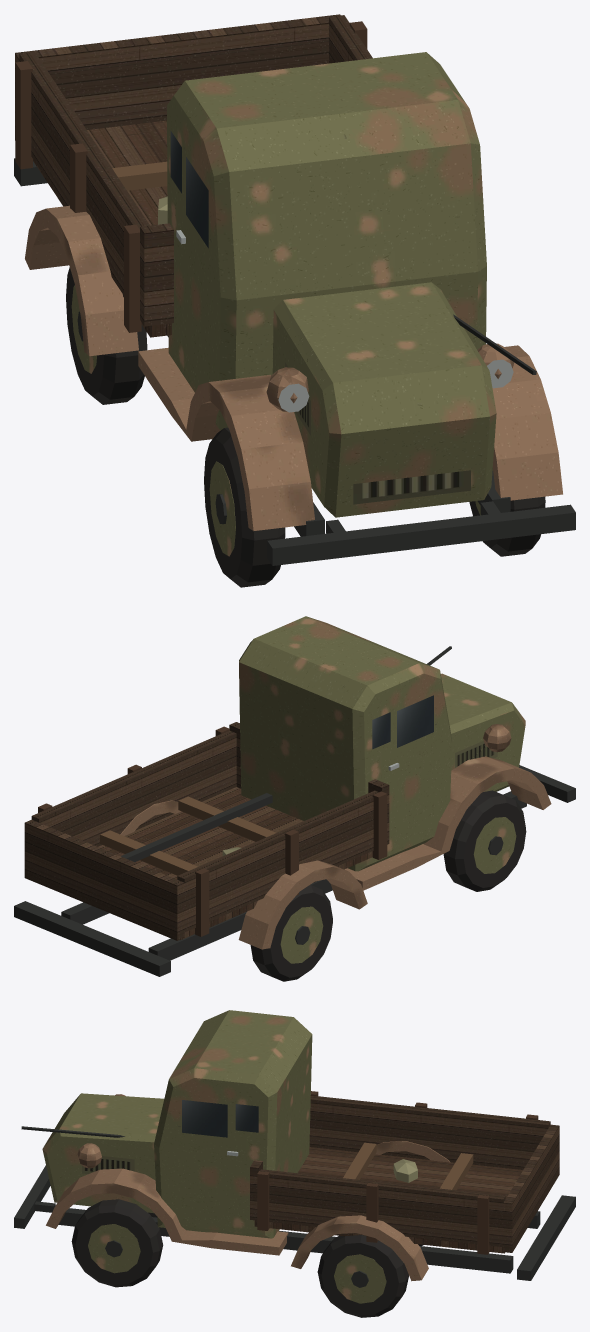
The model's file is stalledConvoy.glb.
3 views of the same model, one above another, from view 1: azimuth 30°, elevation 25°; view 2: azimuth 150°, elevation 25°; view 3: azimuth 270°, elevation 25° (orthographic). The views are drawn at different scales.
Visible parts, largest first — view 1: cabine, capot, aile_avant (×2), hayon, ridelle (×2), pneu (×3), aile_arriere, pare_chocs, rancher (×3), plateau_fond, ridelle_avant, calandre (+4 smaller); view 2: cabine, ridelle (×2), hayon, pneu (×2), aile_avant, plateau_fond, aile_arriere (×2), capot, jante (×2), pare_chocs_ar, traverse (×2), rancher (×3) (+8 smaller); view 3: cabine, ridelle (×2), pneu (×2), capot, plateau_fond, aile_avant, aile_arriere (×2), jante (×2), hayon, longeron, rancher (×3), pare_chocs_ar (+7 smaller).
Boxes of the visible parts, x1,y1,x2,y2 form: cabine: [167, 52, 486, 430]; capot: [272, 282, 496, 517]; aile_avant (×2): [138, 345, 562, 530]; hayon: [15, 14, 340, 140]; ridelle (×2): [19, 15, 372, 323]; pneu (×3): [66, 267, 545, 587]; aile_arriere: [25, 205, 138, 356]; pare_chocs: [267, 504, 575, 565]; rancher (×3): [15, 61, 141, 332]; plateau_fond: [33, 120, 171, 337]; ridelle_avant: [140, 223, 173, 326]; calandre: [353, 470, 470, 504]; cabine: [239, 616, 451, 871]; ridelle (×2): [31, 731, 386, 931]; hayon: [24, 819, 184, 940]; pneu (×2): [250, 790, 526, 981]; aile_avant: [344, 756, 551, 890]; plateau_fond: [98, 787, 372, 939]; aile_arriere (×2): [120, 800, 367, 949]; capot: [440, 673, 525, 791]; jante (×2): [280, 817, 516, 963]; pare_chocs_ar: [14, 901, 170, 976]; traverse (×2): [100, 796, 275, 875]; rancher (×3): [195, 791, 387, 936]; cabine: [154, 1010, 312, 1238]; ridelle (×2): [253, 1096, 550, 1246]; pneu (×2): [71, 1199, 408, 1317]; capot: [42, 1093, 164, 1213]; plateau_fond: [254, 1147, 522, 1253]; aile_avant: [46, 1168, 288, 1255]; aile_arriere (×2): [291, 1141, 450, 1281]; jante (×2): [88, 1224, 386, 1303]; hayon: [503, 1124, 559, 1252]; longeron: [58, 1208, 513, 1273]; rancher (×3): [257, 1171, 489, 1254]; pare_chocs_ar: [517, 1195, 575, 1280].
Size of the model in its own units: 1.69 by 1.35 by 3.09.
14 materials, 7 textured.
